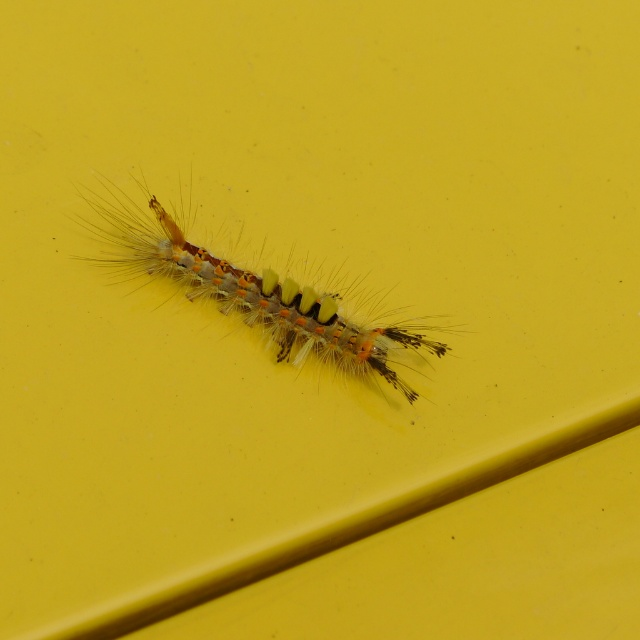Caterpillar: (81, 182, 449, 412)
